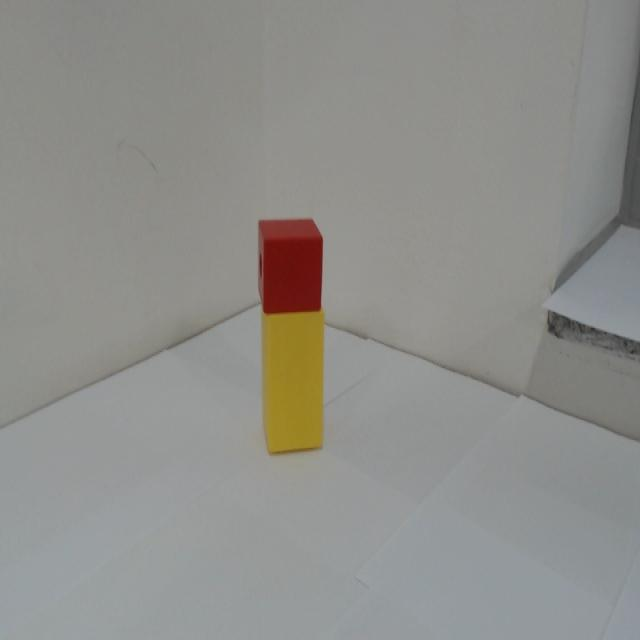cube: (257, 217, 327, 315)
